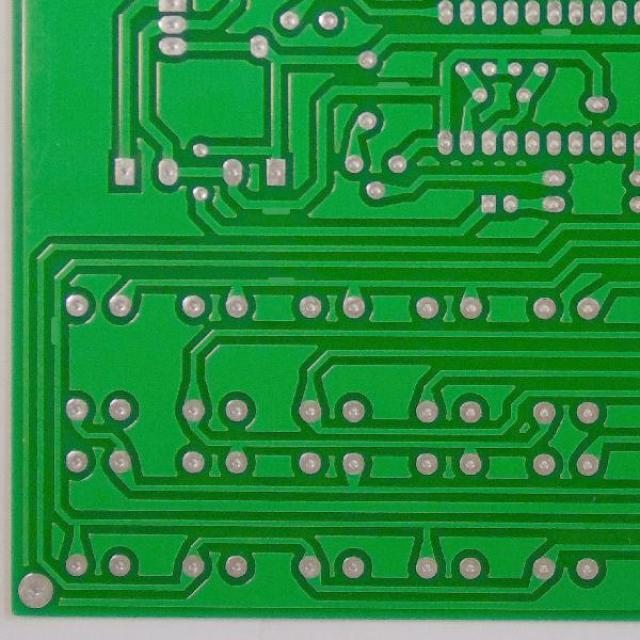Spur: (534, 22, 575, 47), (371, 76, 415, 99), (257, 195, 296, 220), (46, 310, 65, 351), (262, 270, 300, 289)
